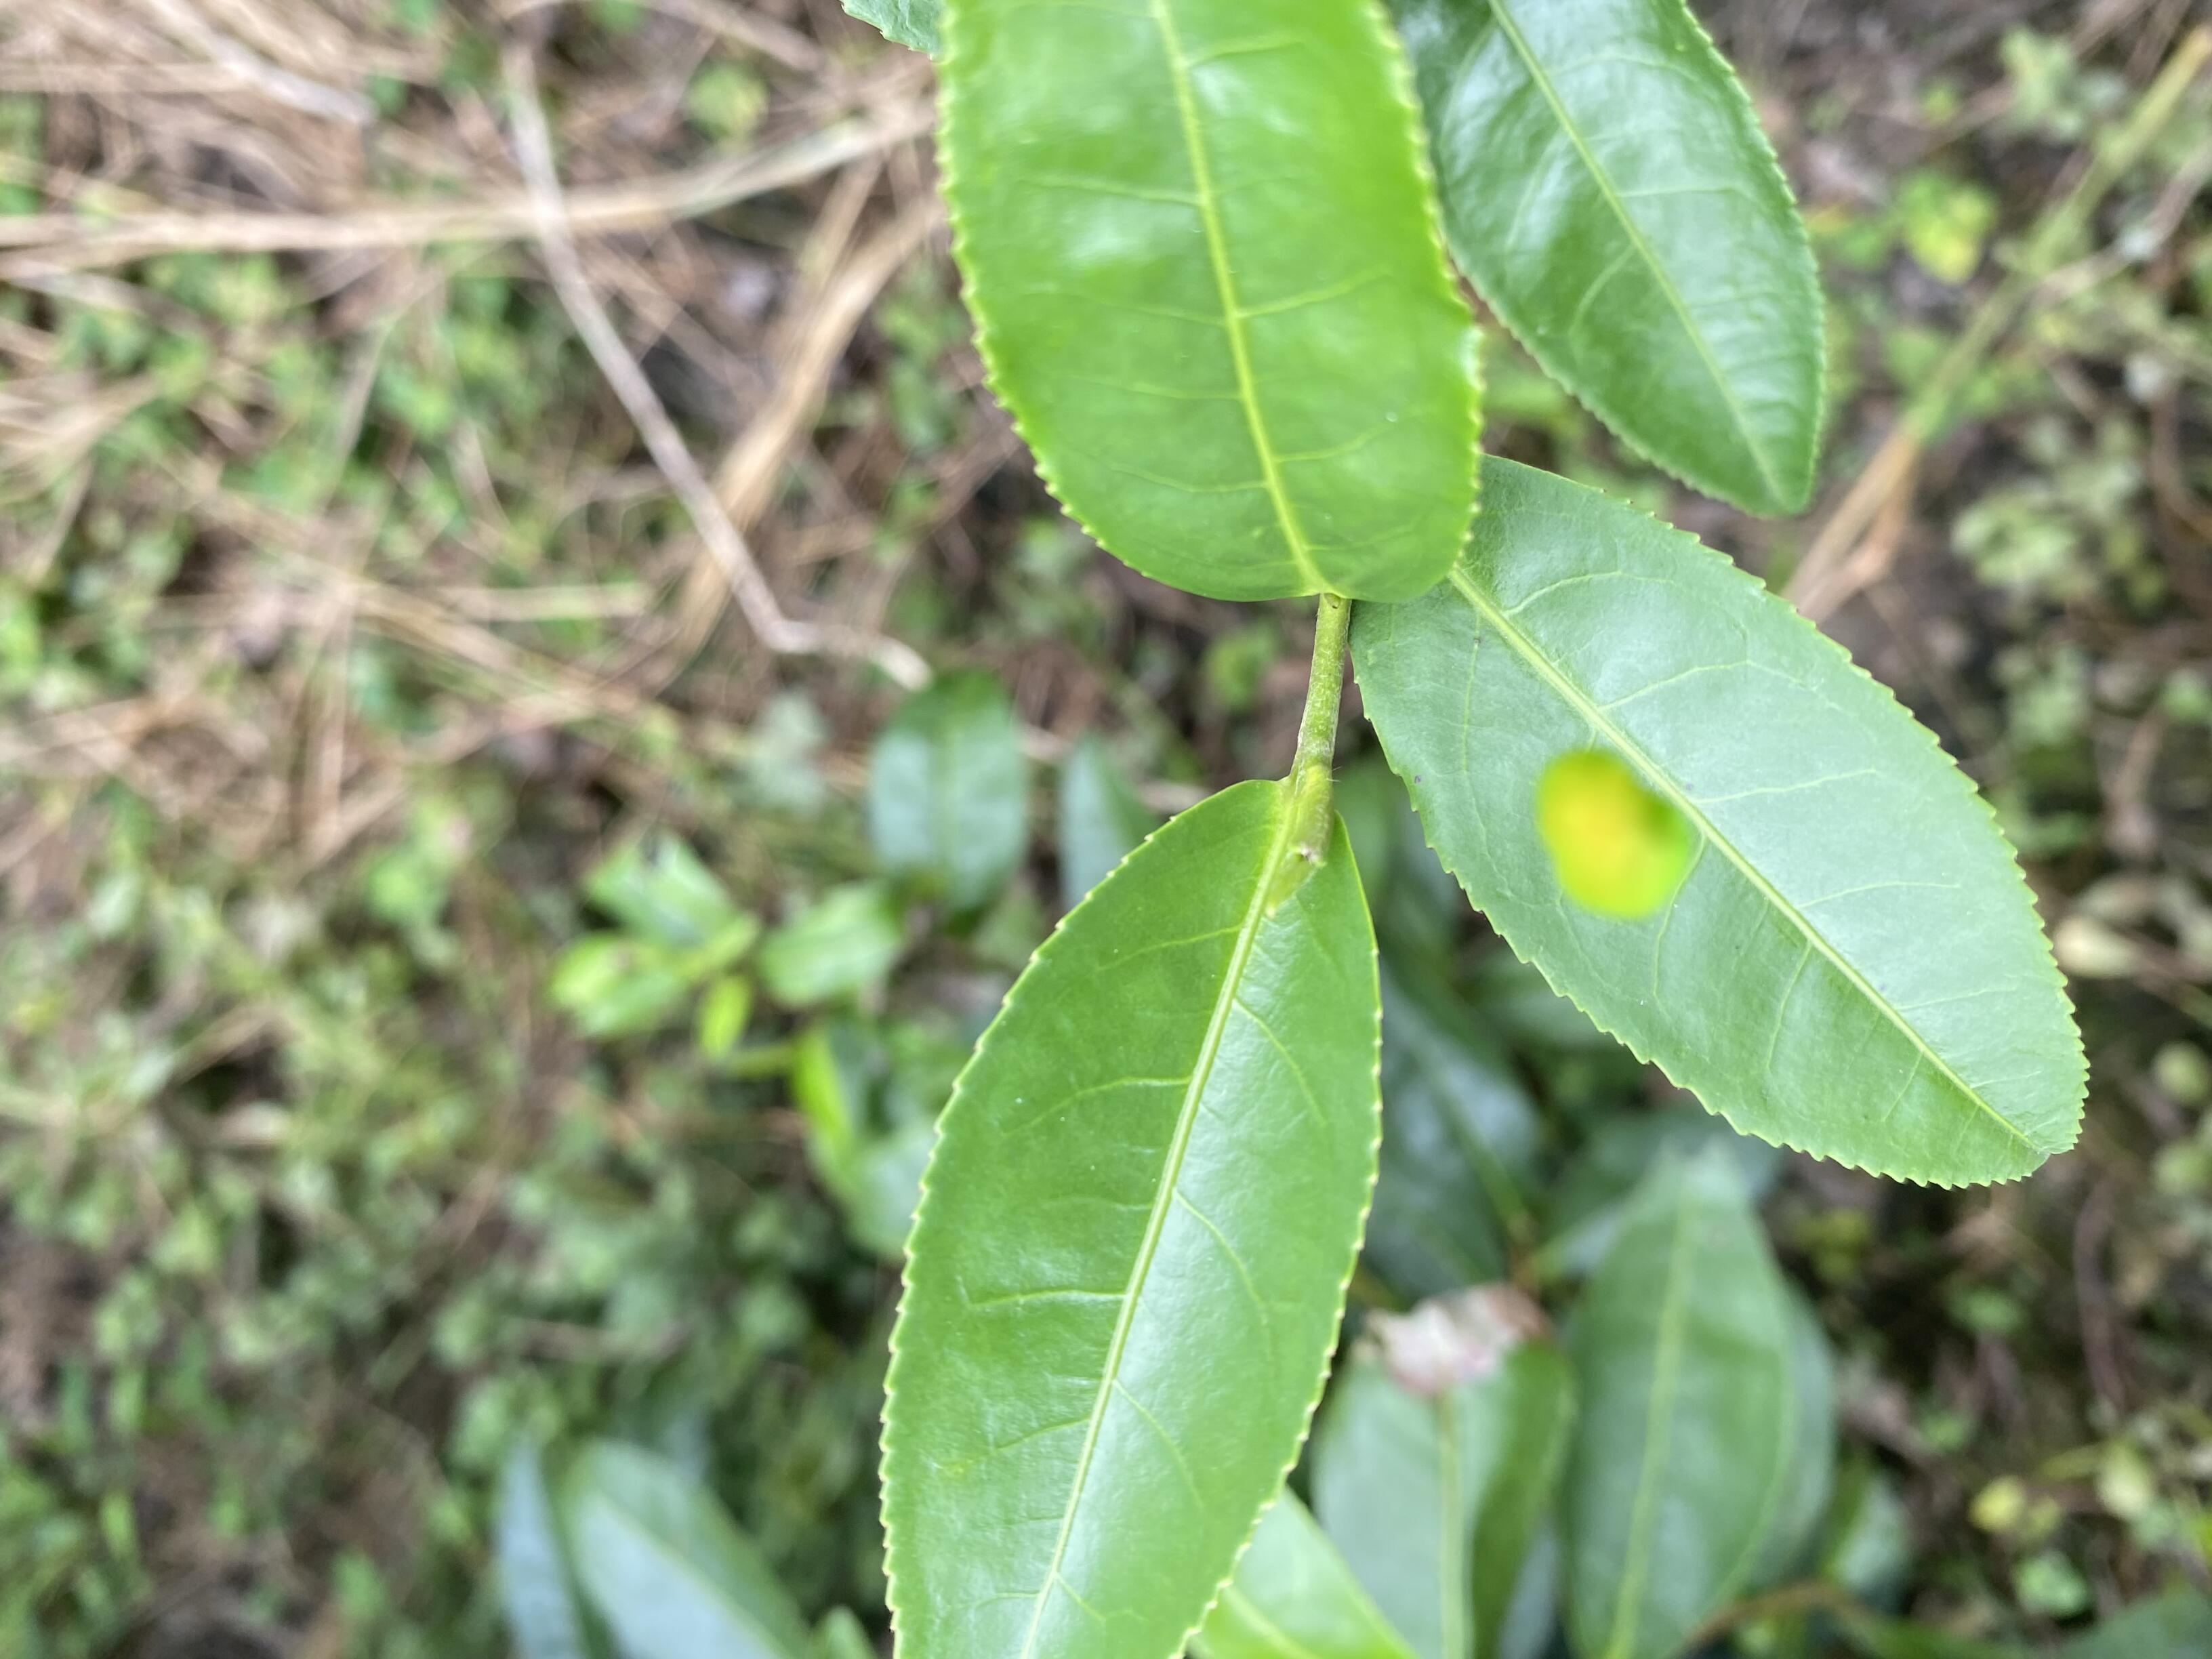chabing_low: (1350, 451, 2094, 1190)
healthy: (874, 777, 1388, 1656), (932, 0, 1486, 605), (1390, 5, 1834, 519)
